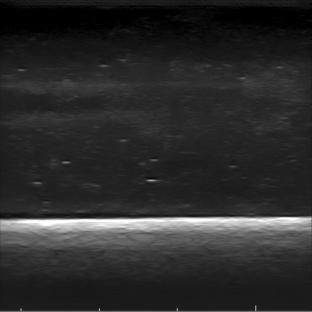vessel: (0, 76, 156, 130)
